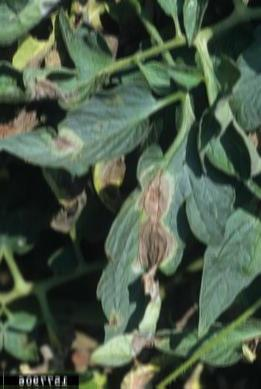Tomato leaf late blight: (89, 96, 231, 325), (0, 89, 162, 174)
